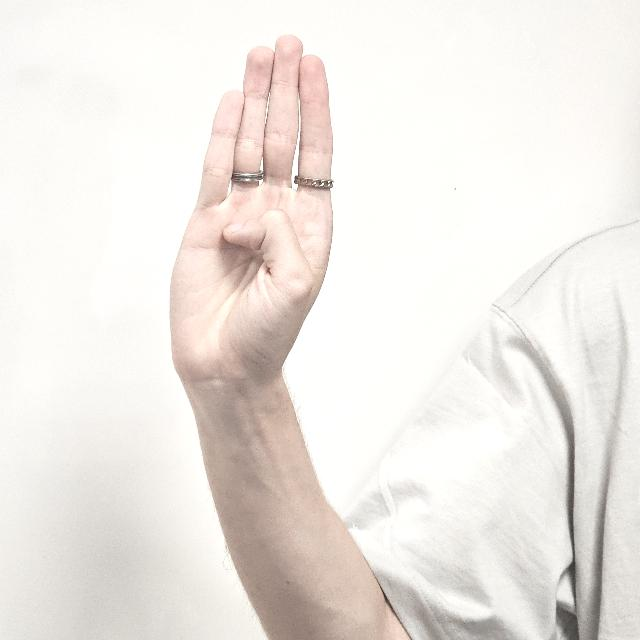Baixo: (172, 31, 331, 418)
